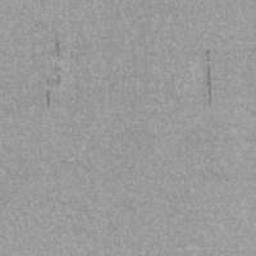Inclusion: (205, 50, 212, 105), (54, 39, 61, 85), (45, 90, 51, 107)
